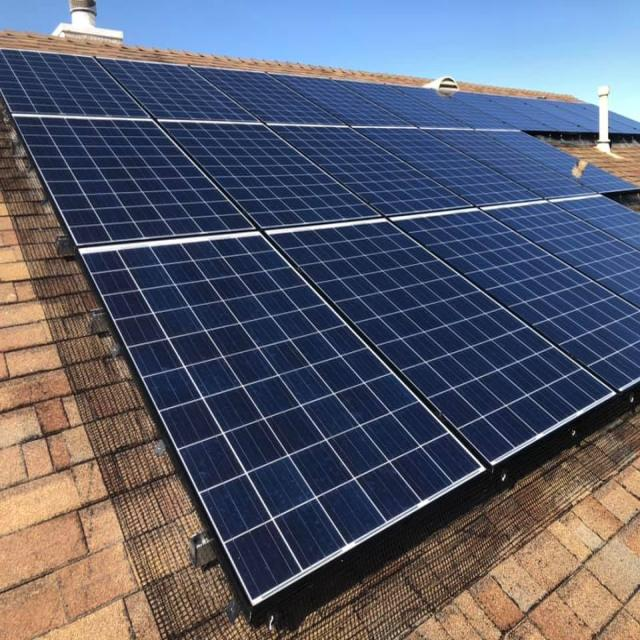clean-solar-panel: (0, 48, 640, 607)
